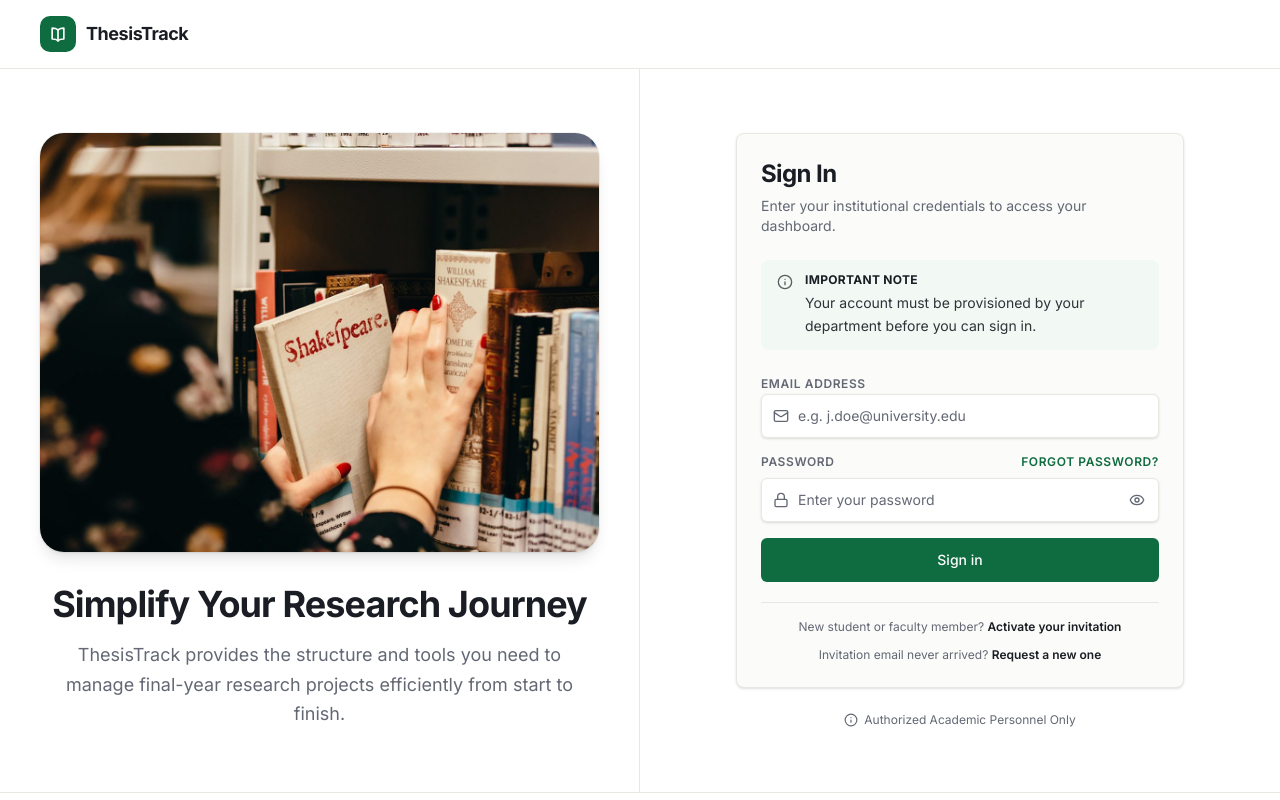
it: login (plan 4.1) › successful sign-in stores the session and navigates to /dashboard
The width and height of the screenshot is (1280, 800).
In the field labelled "Email address": [960, 416] box [761,394,1159,438], type "benjamin.thompson@university.edu"
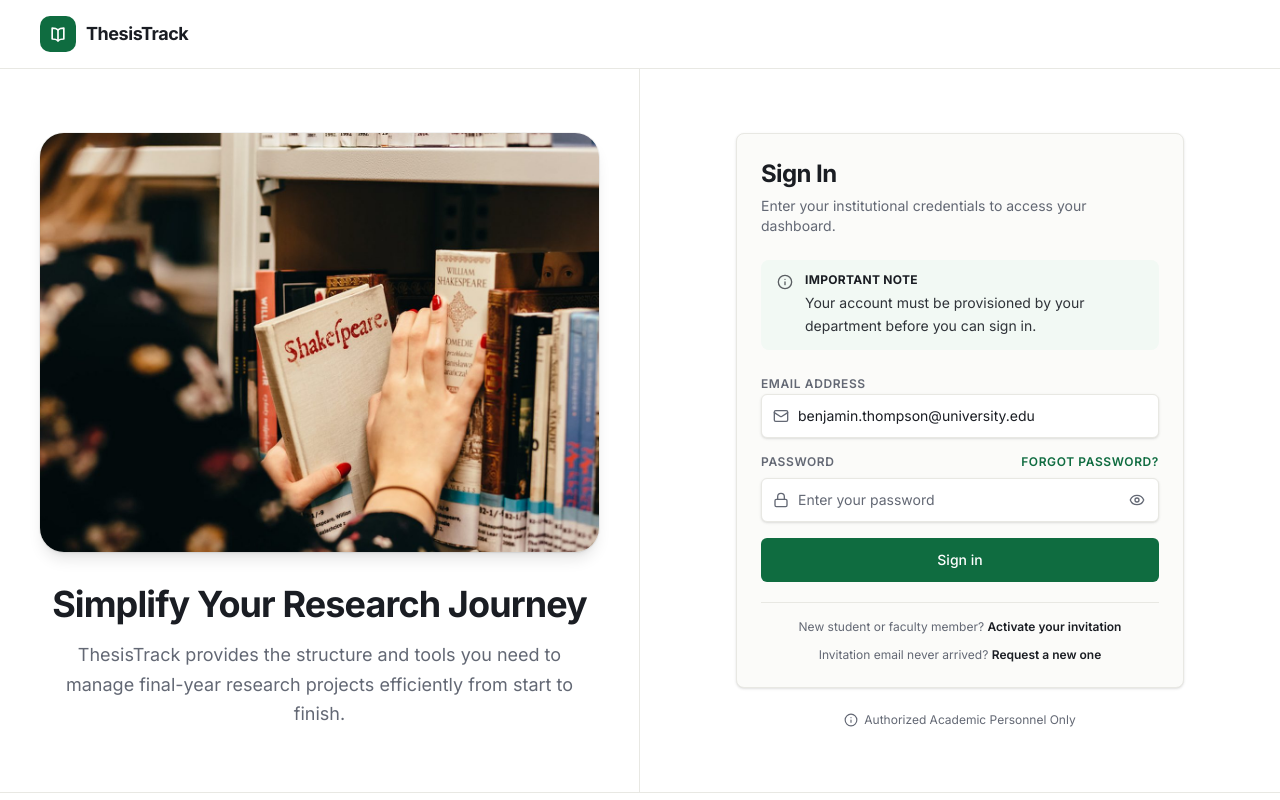
In the password field labelled "Password": [960, 500] box [761,478,1159,522], type "S3cretPass!"
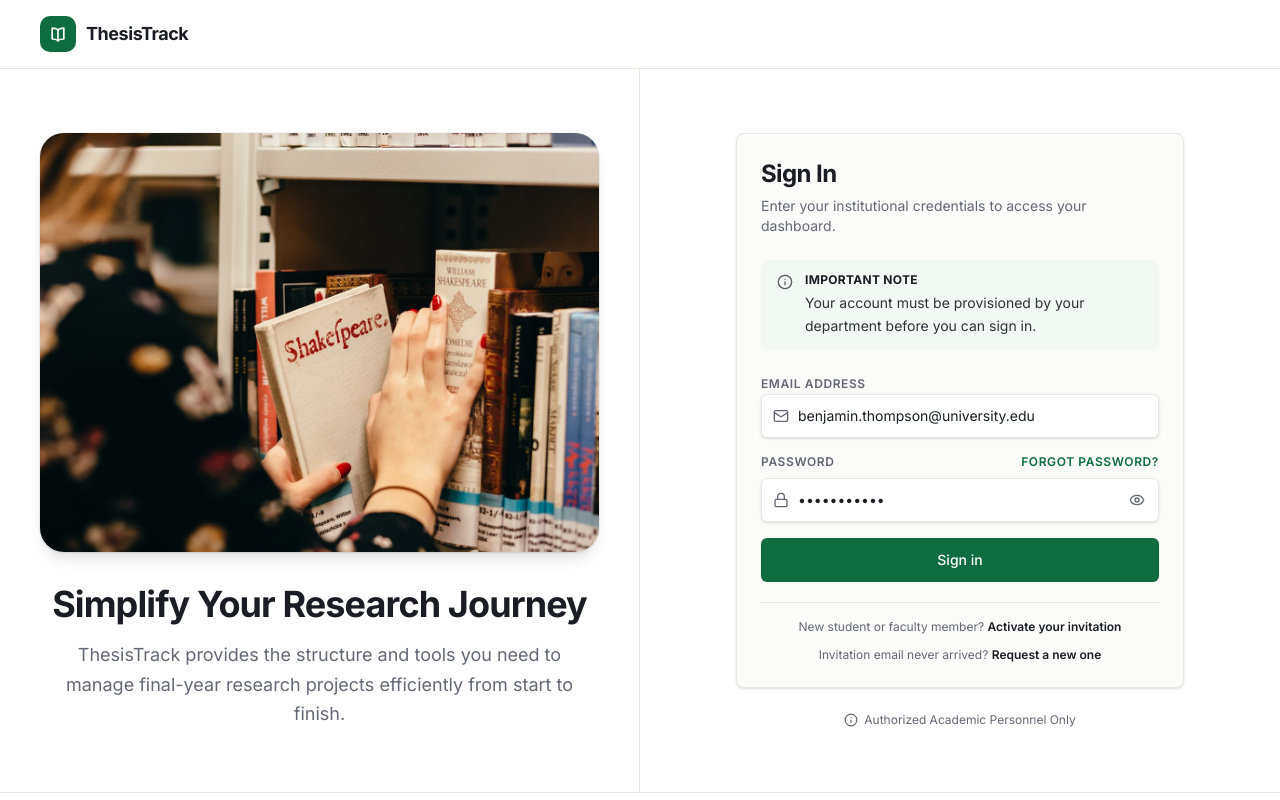
Click the button "Sign in": [960, 560] box [761,538,1159,582]
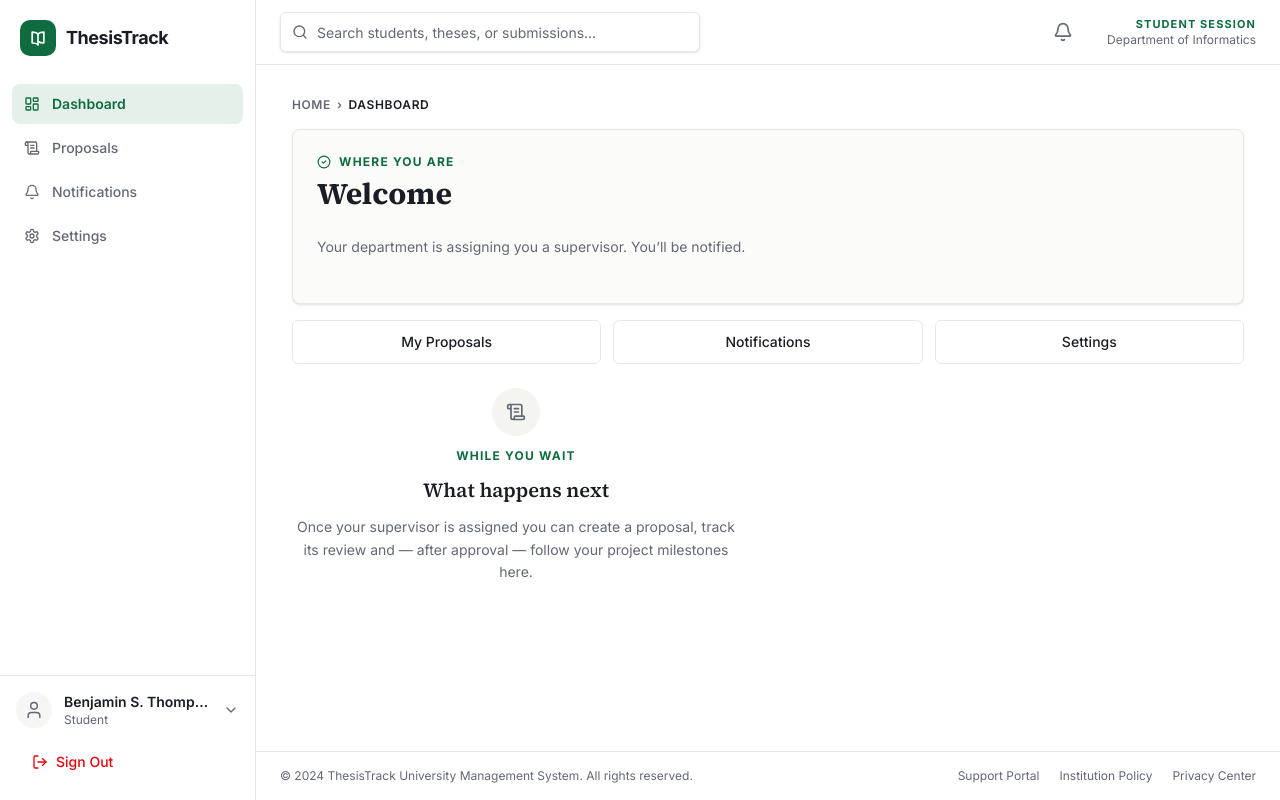
expect the heading "Welcome" is shown: met, box [317,173,452,214]
expect the text "assigning you a supervisor" is shown: met, box [317,238,745,255]
expect the text "Benjamin S. Thompson" is shown: met, box [64,692,211,712]
